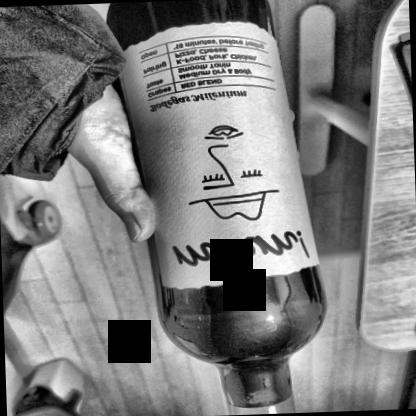umm: (118, 15, 319, 296)
